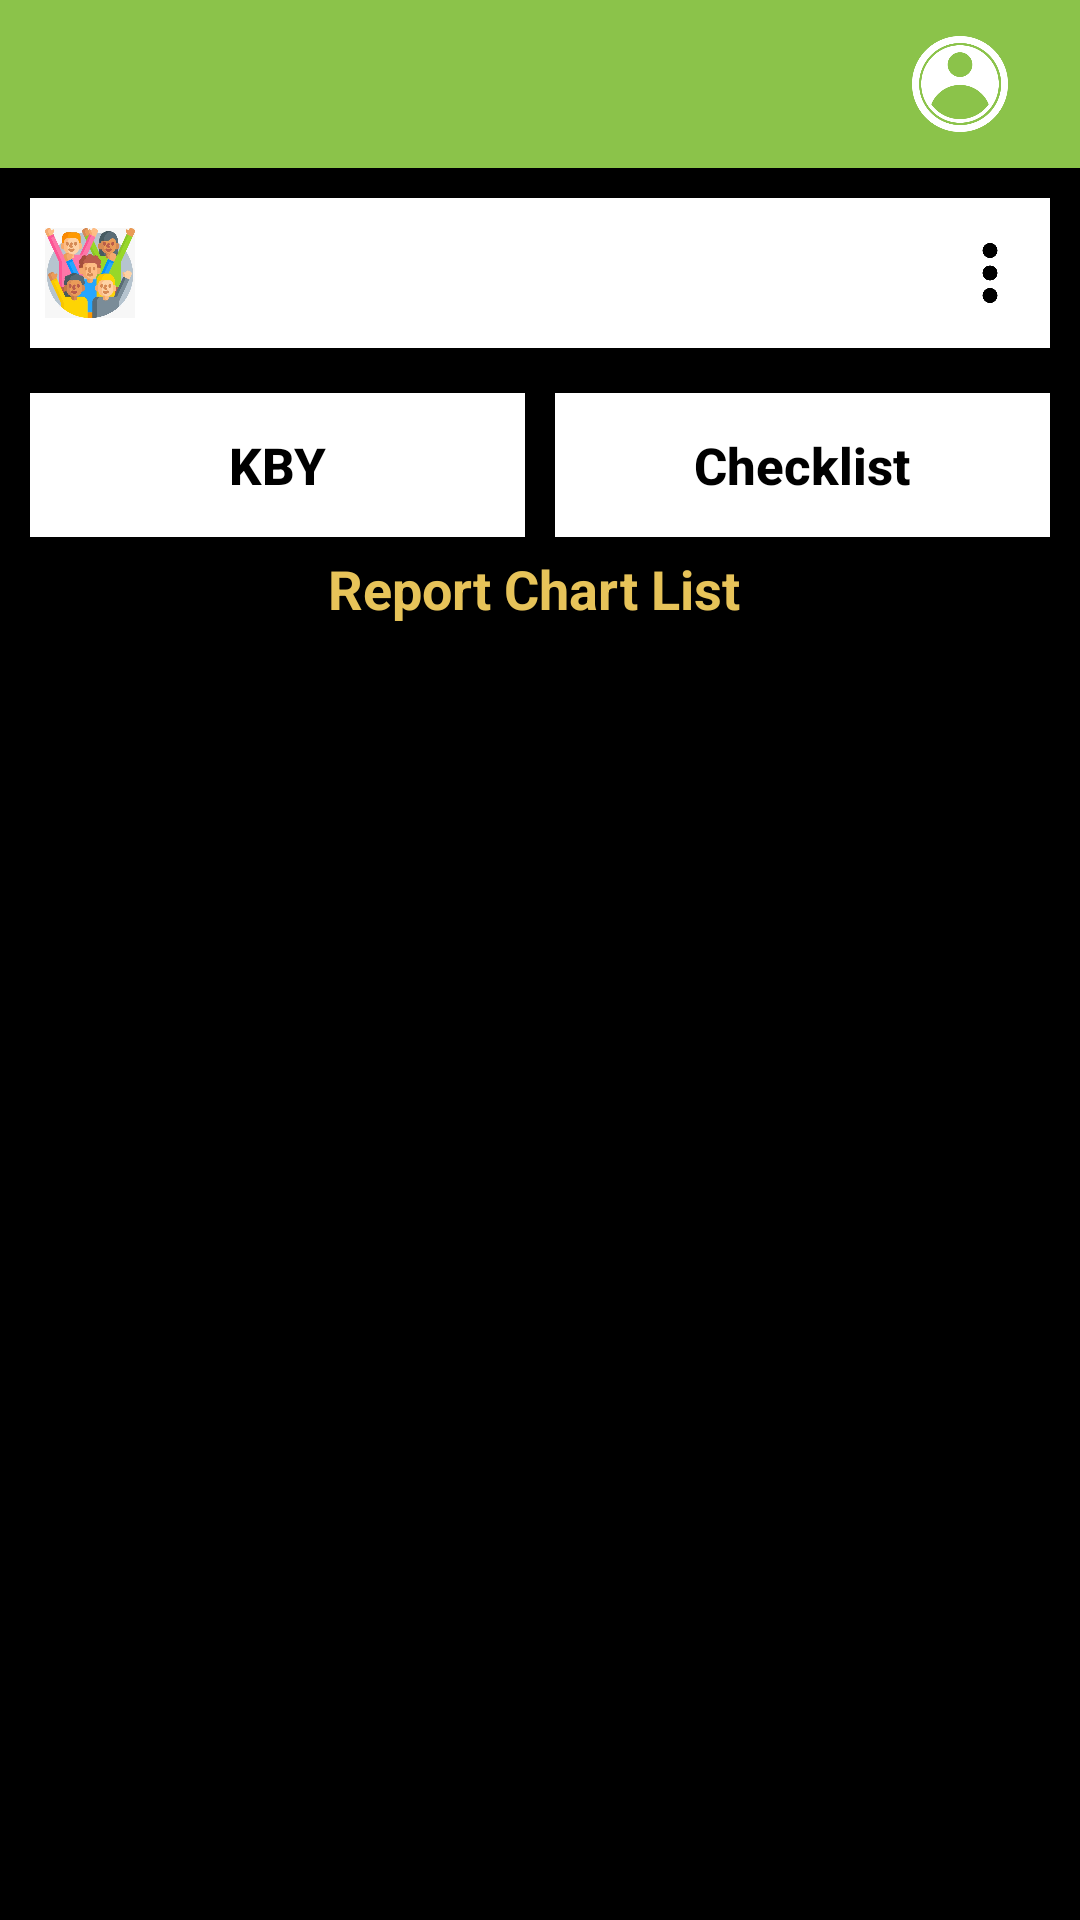

Where to tap for icons on this 1080*1920 app screen, as point (x, y):
existing group: point (90, 273)
more: point (990, 273)
userima: point (960, 84)
